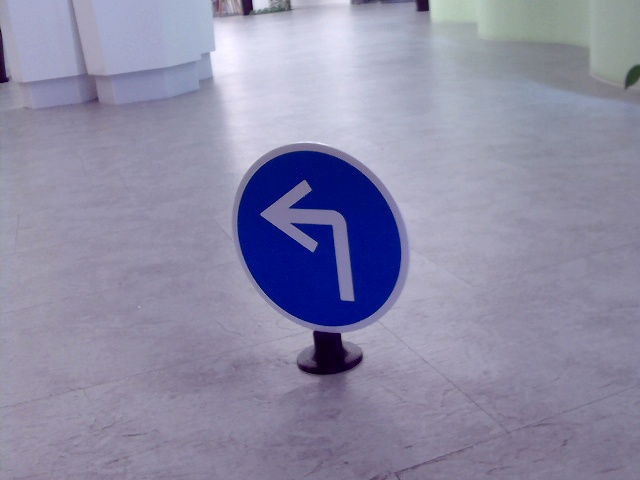turn_left: (261, 170, 361, 301)
